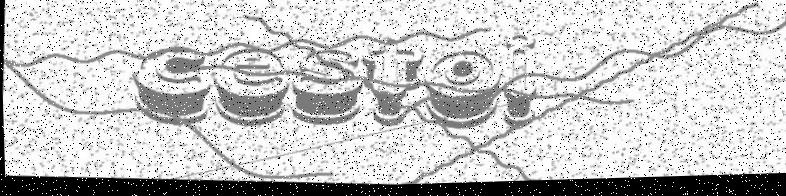c: (127, 44, 214, 128)
e: (208, 46, 291, 131)
i: (495, 35, 539, 133)
o: (419, 49, 502, 135)
s: (287, 48, 365, 131)
t: (357, 40, 424, 131)
